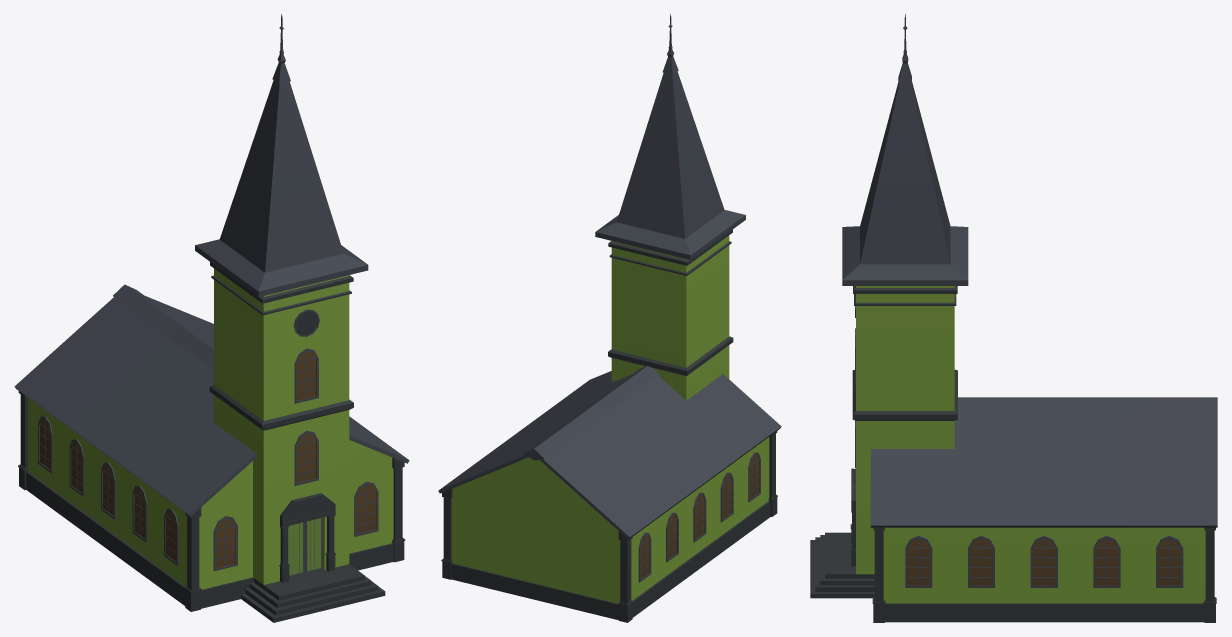
Rendered from Church_01.fbx.
The picture shows the model from 3 angles, left to right: view 1: azimuth 30°, elevation 25°; view 2: azimuth 150°, elevation 25°; view 3: azimuth 270°, elevation 25°; orthographic projection. The views are drawn at different scales.
Visible parts, largest first — view 1: Church_01; view 2: Church_01; view 3: Church_01.
Boxes of the visible parts, x1=… form: Church_01: x1=14, y1=14, x2=409, y2=622; Church_01: x1=438, y1=14, x2=781, y2=622; Church_01: x1=810, y1=14, x2=1217, y2=622.
Size of the model in its own units: 12.87 by 31.22 by 20.68.
